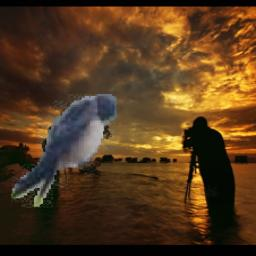Swallow: (10, 94, 116, 208)
